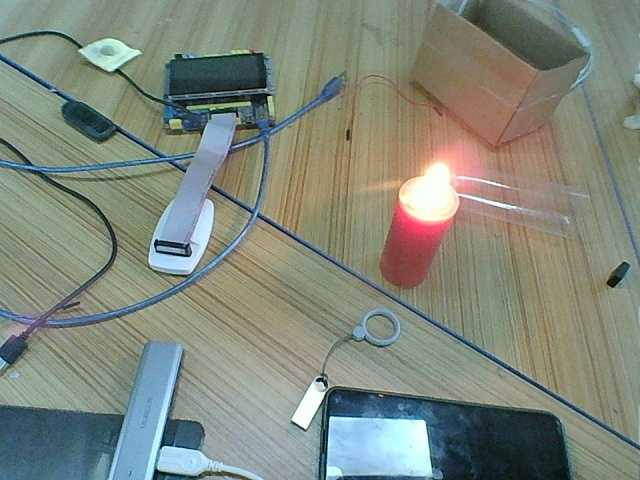candle: (380, 206, 453, 290)
fire: (406, 163, 458, 208)
